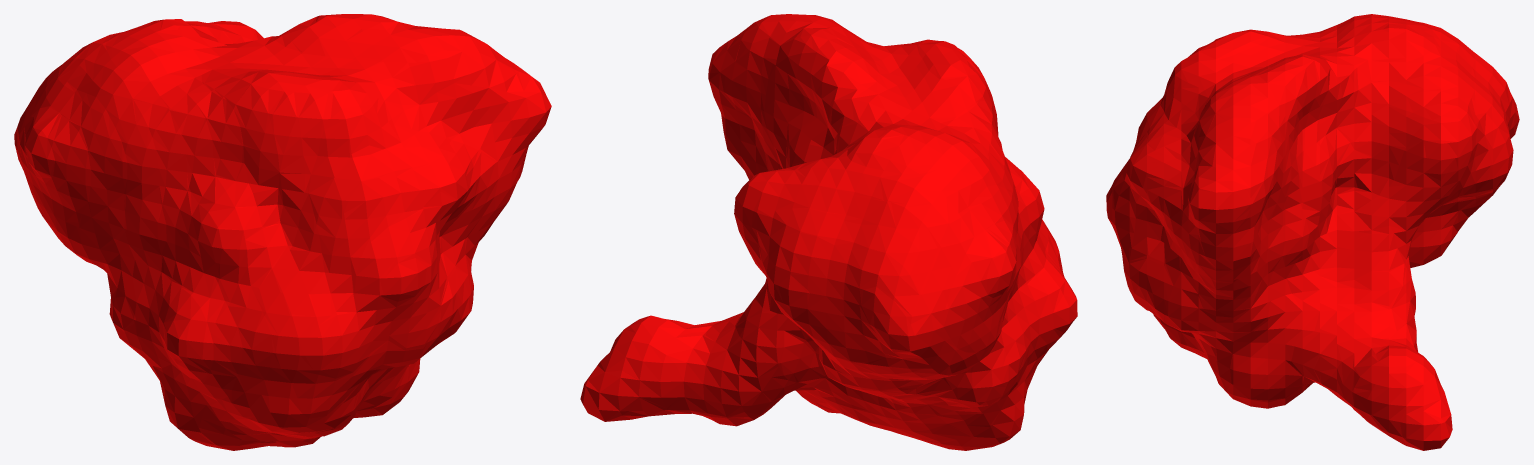
The model's file is hisC_coarse.dae.
3 renders of one model, left to right at view 1: azimuth 30°, elevation 25°; view 2: azimuth 150°, elevation 25°; view 3: azimuth 270°, elevation 25°, orthographic. The views are drawn at different scales.
Visible parts, largest first — view 1: hisC; view 2: hisC; view 3: hisC.
Boxes of the visible parts, x1=… form: hisC: x1=14, y1=14, x2=551, y2=450; hisC: x1=580, y1=14, x2=1077, y2=450; hisC: x1=1106, y1=14, x2=1519, y2=450.
Bounding box in the file's own units: 61.75 × 55.35 × 58.77.
